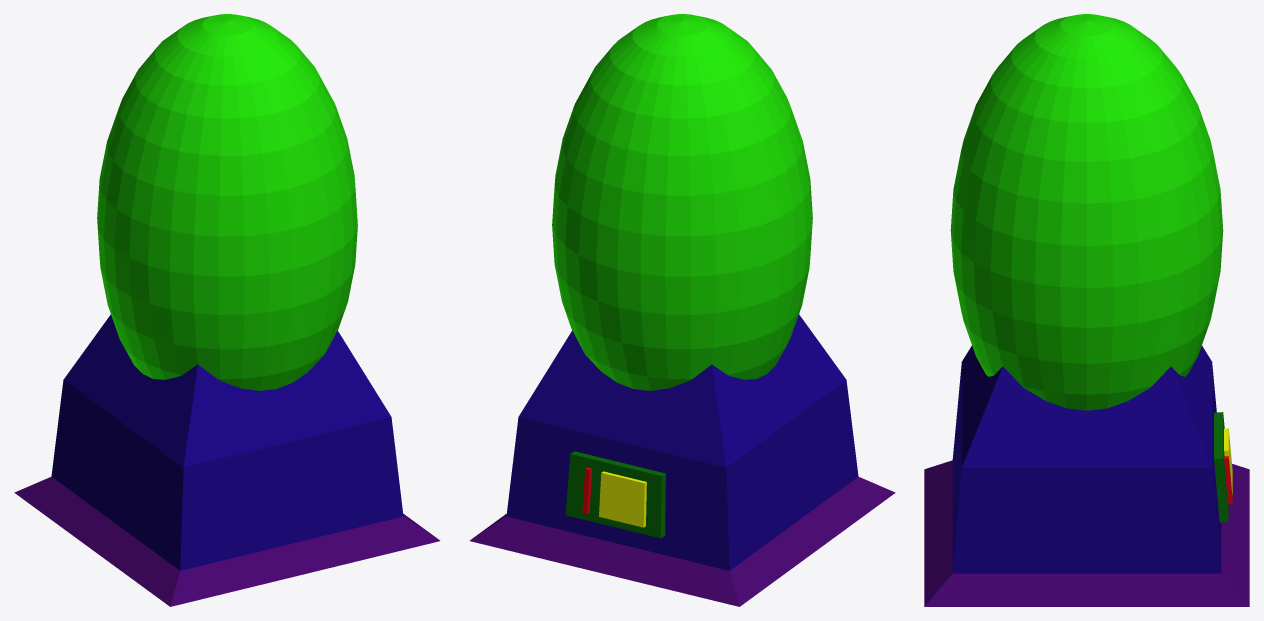
The model's file is Maquina,contennedora.fbx.
3 renders of one model, left to right at view 1: azimuth 30°, elevation 25°; view 2: azimuth 150°, elevation 25°; view 3: azimuth 270°, elevation 25°, orthographic. The views are drawn at different scales.
Visible parts, largest first — view 1: Sphere, Cube; view 2: Sphere, Cube; view 3: Sphere, Cube.
Part boxes in pixels (left/top/right/bottom): Sphere: left=97, top=14, right=357, bottom=390; Cube: left=14, top=314, right=440, bottom=606; Sphere: left=552, top=14, right=812, bottom=390; Cube: left=469, top=314, right=895, bottom=606; Sphere: left=950, top=14, right=1223, bottom=410; Cube: left=924, top=346, right=1249, bottom=606.
Size of the model in its own units: 239 by 419 by 239.
